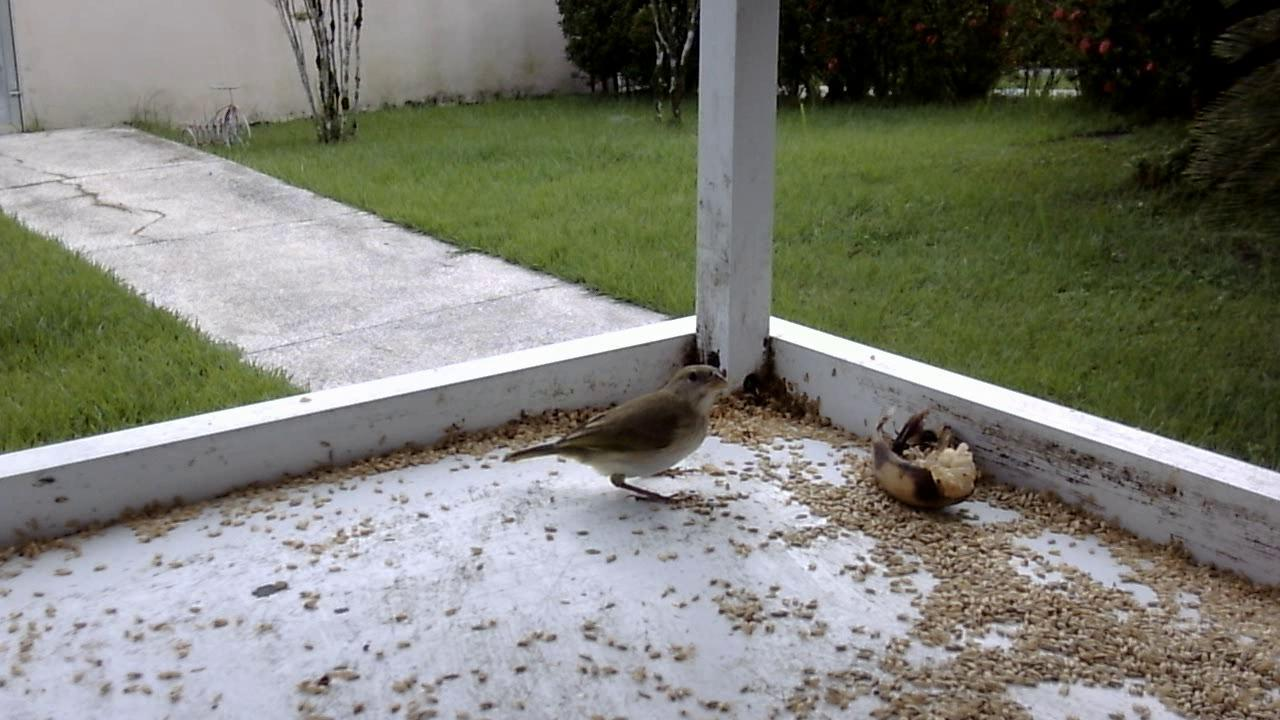canario_do_amazonas: (502, 362, 734, 508)
